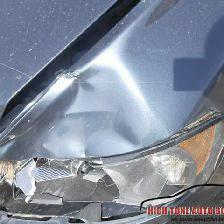head_lamp: (6, 114, 141, 214)
